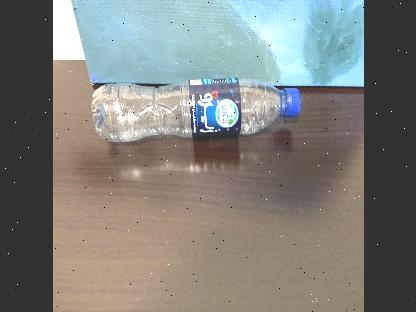Plastic Bottle: (90, 77, 300, 142)
